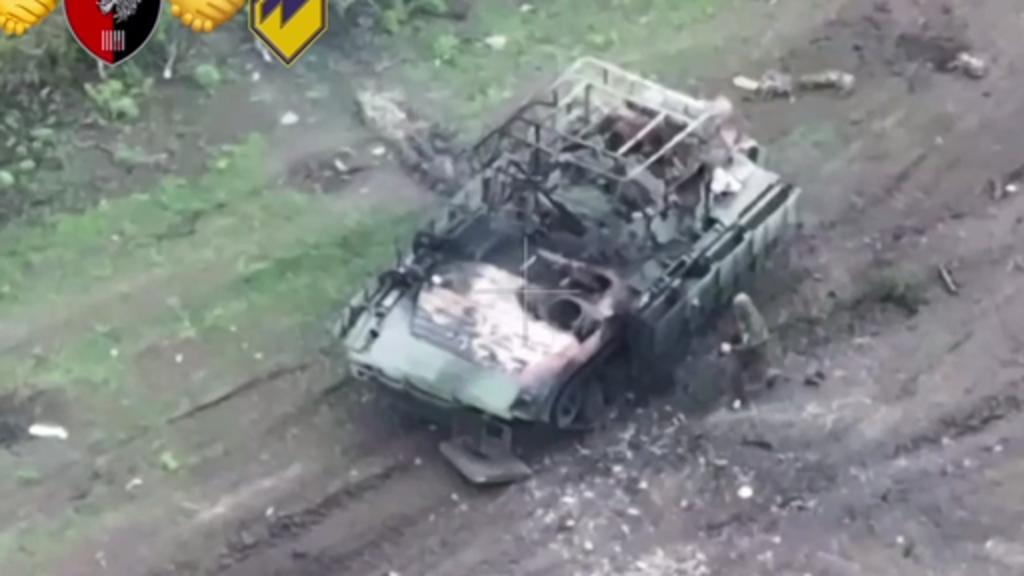APC-IFV: (312, 48, 804, 460)
